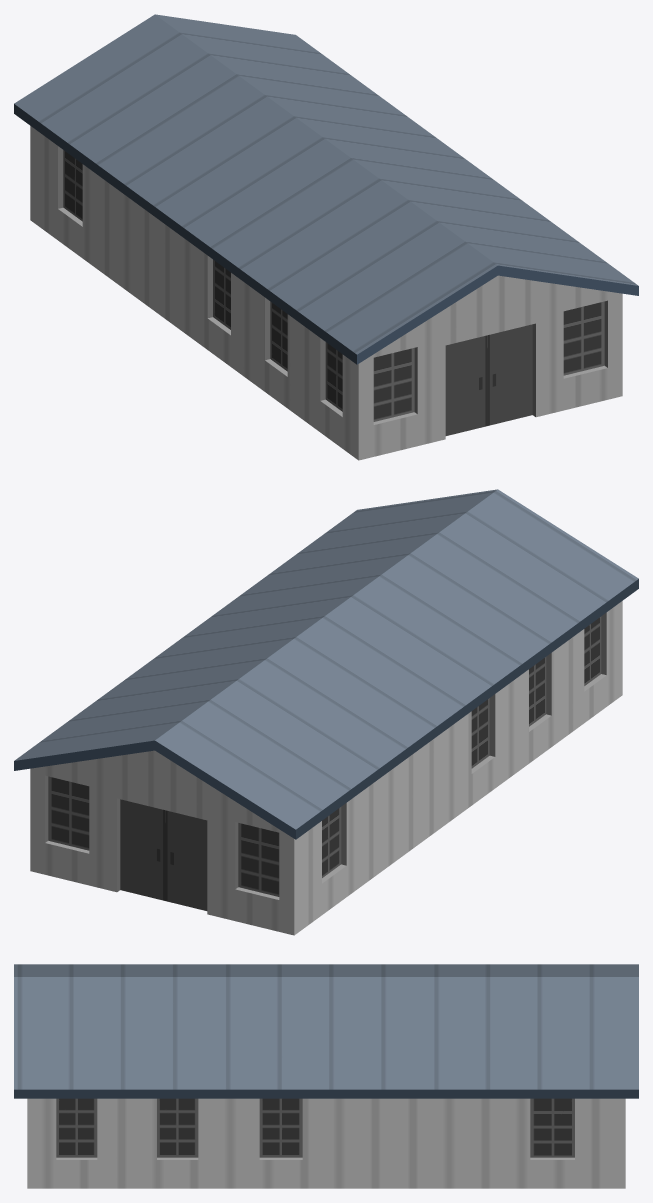
Rendered from SM_Bld_Barracks_01.gltf.
3 views of the same model, one above another, from view 1: azimuth 30°, elevation 25°; view 2: azimuth 150°, elevation 25°; view 3: azimuth 270°, elevation 25° (orthographic). The views are drawn at different scales.
Parts seen in each view (by area): view 1: SM_Bld_Barracks_01; view 2: SM_Bld_Barracks_01; view 3: SM_Bld_Barracks_01.
Part boxes in pixels (x1,y1,x2,y2): SM_Bld_Barracks_01: (14,14,638,460); SM_Bld_Barracks_01: (14,489,638,935); SM_Bld_Barracks_01: (14,964,638,1188).
Size of the model in its own units: 10.62 by 6.05 by 22.38.
Materials: 1 (1 with a texture image).
